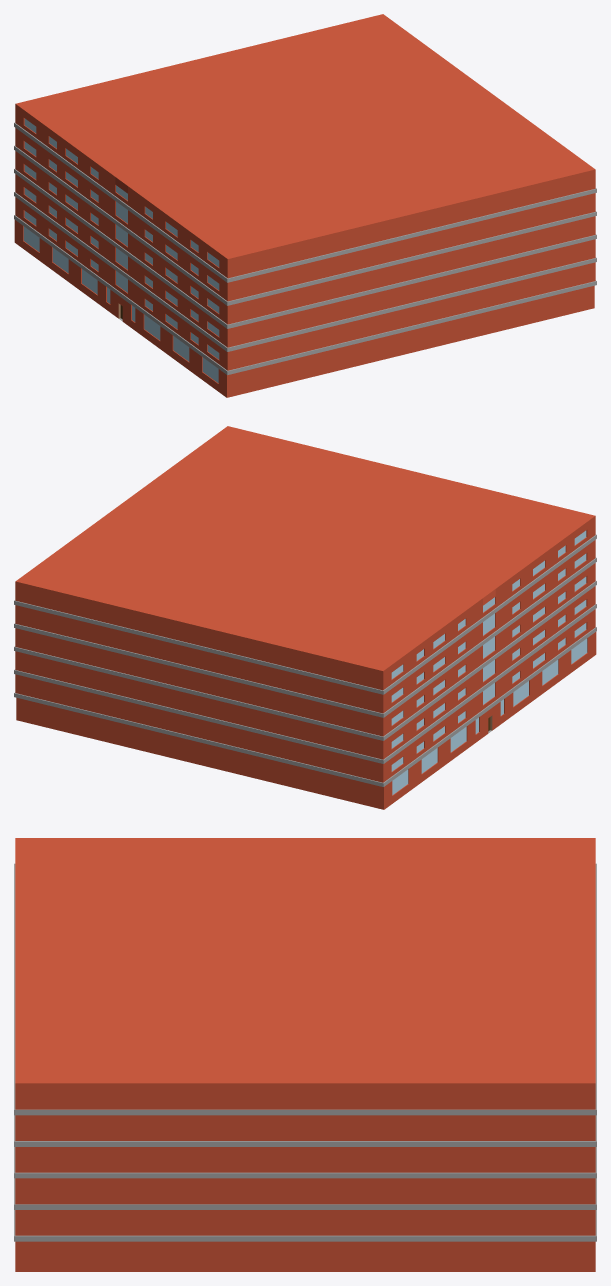
Rendered from house1.fbx.
3 views of the same model, one above another, from view 1: azimuth 30°, elevation 25°; view 2: azimuth 150°, elevation 25°; view 3: azimuth 270°, elevation 25° (orthographic). The views are drawn at different scales.
Parts seen in each view (by area): view 1: House1; view 2: House1; view 3: House1.
Part boxes in pixels (x1,y1,x2,y2): House1: (14, 14, 596, 397); House1: (14, 426, 596, 809); House1: (14, 838, 596, 1271).
Size of the model in its own units: 5025 by 1800 by 5025.
